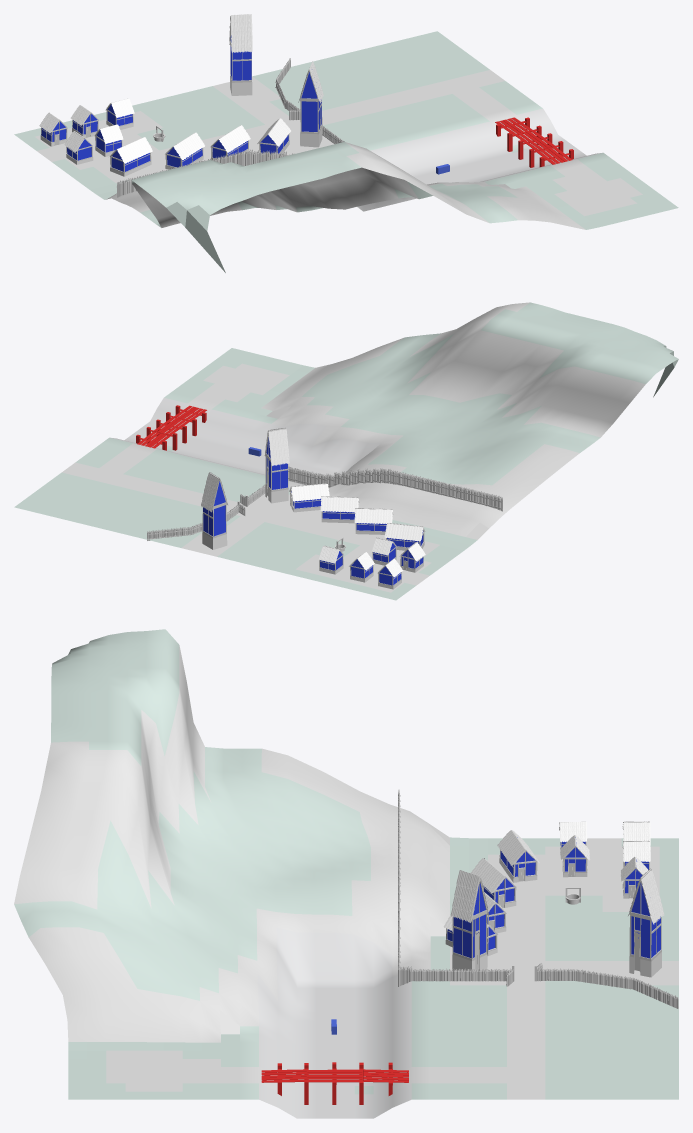
The model's file is batiment.glb.
The picture shows the model from 3 angles, top to bottom: view 1: azimuth 30°, elevation 25°; view 2: azimuth 150°, elevation 25°; view 3: azimuth 270°, elevation 25°; orthographic projection. The views are drawn at different scales.
Parts seen in each view (by area): view 1: Plane, pont, Haus 7.010, Gros_batiment, Haus 7, maison_2, Haus 7.002, maison_1, Haus 7.008, Haus 7.004, Haus 7.005, Haus 7.006 (+1 smaller); view 2: Plane, Gros_batiment, Haus 7.010, pont, Haus 7.002, maison_2, maison_1, Haus 7, Haus 7.008, Haus 7.004, Haus 7.006, Haus 7.007 (+1 smaller); view 3: Plane, Gros_batiment, Haus 7.010, pont, Haus 7, maison_2, Haus 7.004.
Boxes of the visible parts, x1,y1,x2,y2 form: Plane: (14,31,678,272); pont: (495,117,573,167); Haus 7.010: (229,14,252,95); Gros_batiment: (298,61,323,147); Haus 7: (109,137,152,176); maison_2: (165,132,204,169); Haus 7.002: (210,125,250,159); maison_1: (257,118,290,154); Haus 7.008: (105,98,134,129); Haus 7.004: (94,124,123,156); Haus 7.005: (64,131,93,164); Haus 7.006: (39,112,67,146); Plane: (14,302,678,600); Gros_batiment: (264,428,289,503); Haus 7.010: (201,472,228,549); pont: (136,405,206,450); Haus 7.002: (320,496,359,523); maison_2: (354,508,393,534); maison_1: (289,483,329,512); Haus 7: (384,523,425,550); Haus 7.008: (318,545,343,574); Haus 7.004: (371,537,397,565); Haus 7.006: (377,558,403,589); Haus 7.007: (349,552,374,582); Plane: (14,629,678,1118); Gros_batiment: (450,870,489,970); Haus 7.010: (628,868,664,977); pont: (261,1062,408,1104); Haus 7: (497,830,539,882); maison_2: (470,858,518,907); Haus 7.004: (560,835,589,877).
Size of the model in its own units: 114 by 30.37 by 102.
